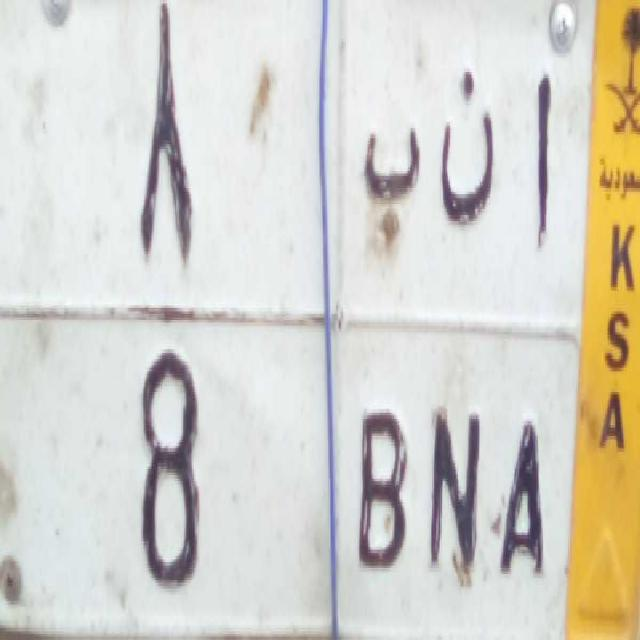license_plate: (0, 301, 568, 640)
